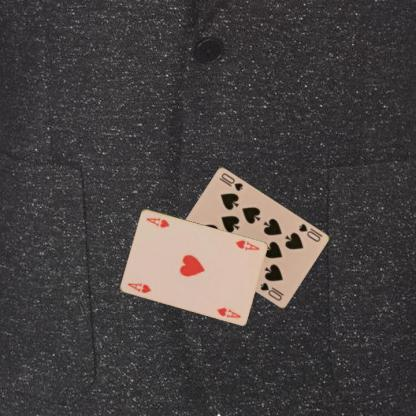10s: (296, 221, 322, 244)
Ah: (233, 237, 260, 252), (125, 280, 152, 294)
